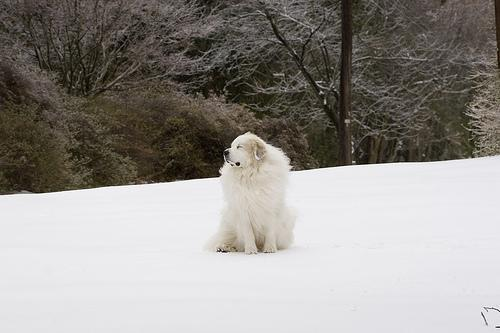Great_Pyrenees: (202, 130, 298, 259)
